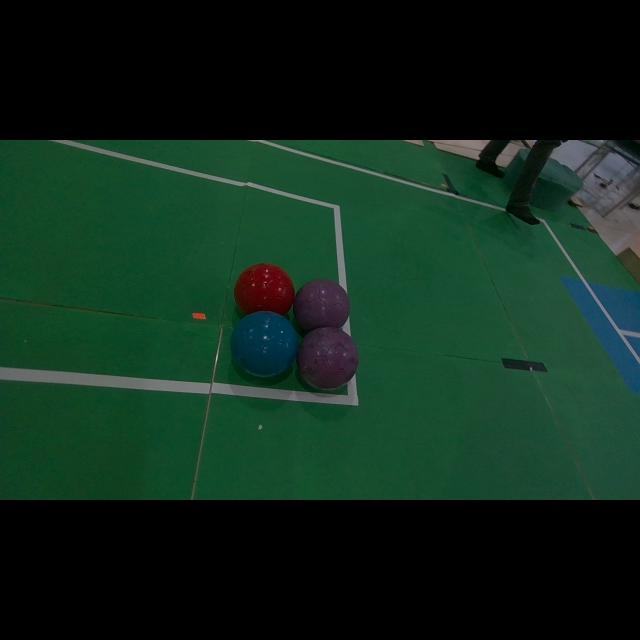B: (231, 312, 299, 378)
P: (296, 328, 359, 389), (294, 279, 350, 330)
R: (234, 264, 295, 315)
